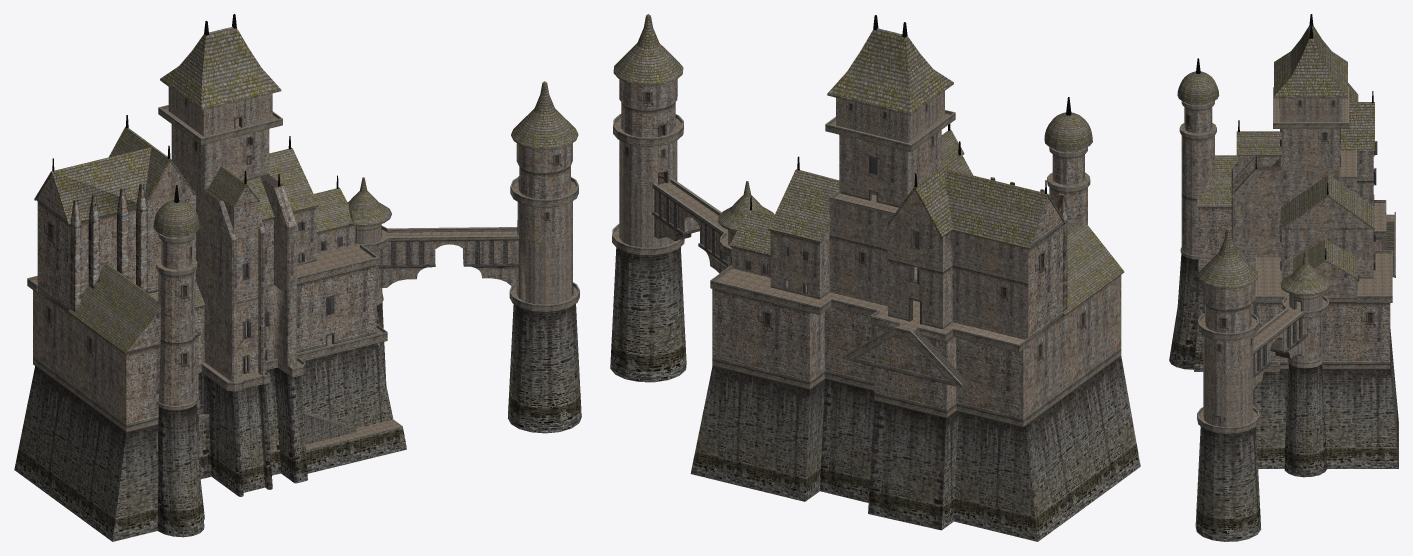
Rendered from Vcastle1.dae.
3 renders of one model, left to right at view 1: azimuth 30°, elevation 25°; view 2: azimuth 150°, elevation 25°; view 3: azimuth 270°, elevation 25°, orthographic. The views are drawn at different scales.
Visible parts, largest first — view 1: image1-0; view 2: image1-0; view 3: image1-0.
Part boxes in pixels (<box>): image1-0: <box>14,14,581,541</box>; image1-0: <box>610,14,1140,541</box>; image1-0: <box>1169,14,1398,541</box>.
Size of the model in its own units: 214 by 98.97 by 184.
